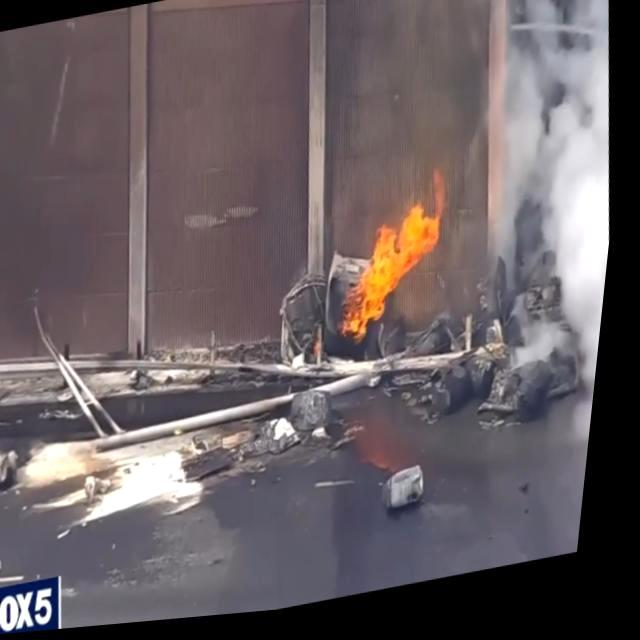fire: (331, 168, 469, 354)
